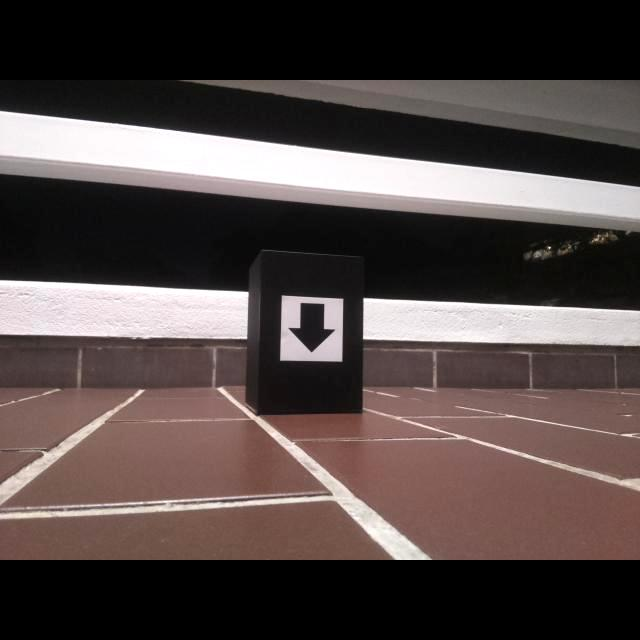DOWN: (286, 302, 337, 354)
